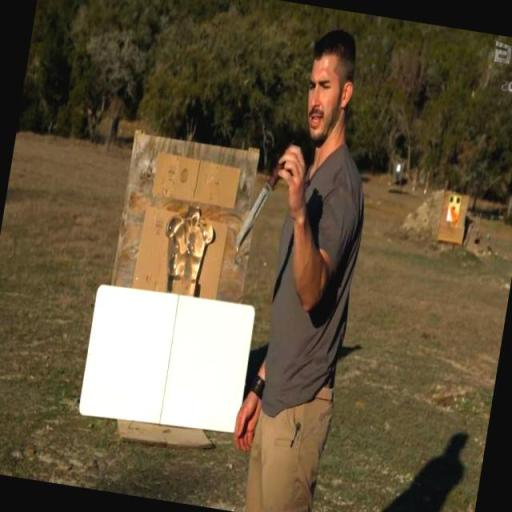knife: (230, 132, 300, 270)
